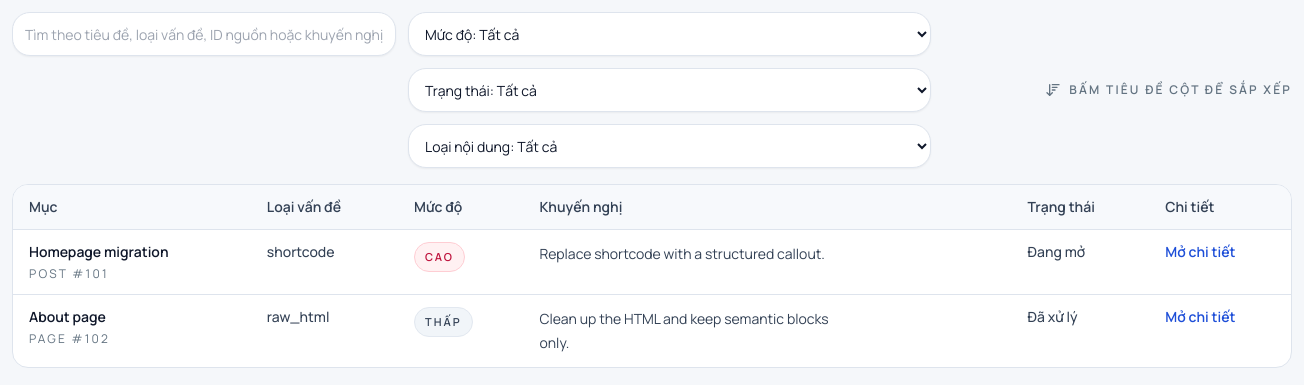
Test: ManualFixesTable › filters rows by severity and search text
Later steps or results of the test are not shown.
Check: the text "Homepage migration" is shown, box [29,242,168,261]
Check: the text "About page" is shown, box [29,307,106,326]
Select "Cao" in the 1st dropdown at (670, 34), box [408,12,931,56]
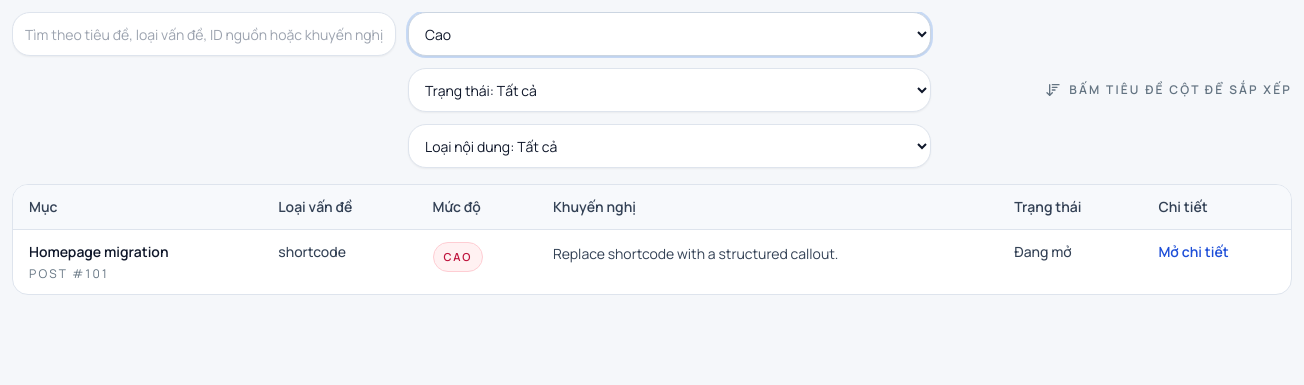
Check: the text "Homepage migration" is shown, box [29,242,168,261]
Check: the text "About page" is gone
